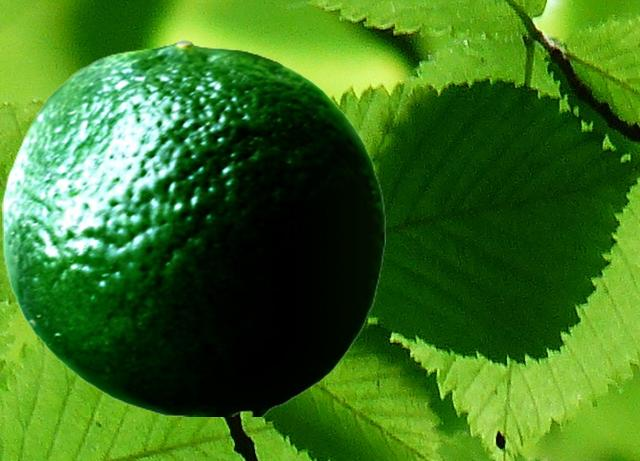calamansi: (2, 39, 384, 415)
